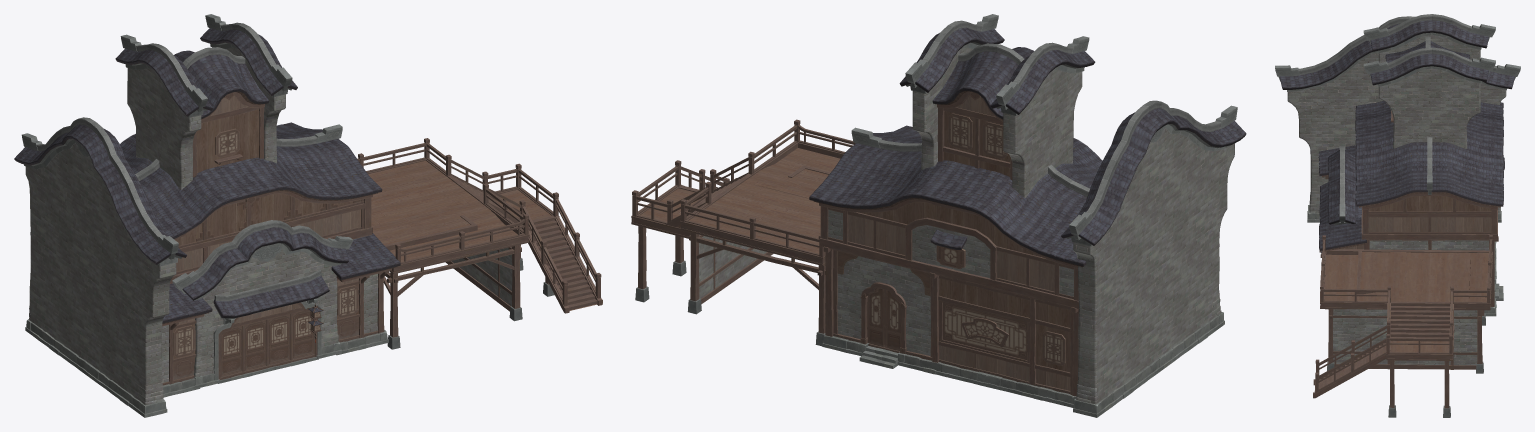
File: Homeworld_Exterior_Cyg_Build_Huipai_01_Lod0.fbx
3 views of the same model, side by side, from view 1: azimuth 30°, elevation 25°; view 2: azimuth 150°, elevation 25°; view 3: azimuth 270°, elevation 25° (orthographic). The views are drawn at different scales.
Visible parts, largest first — view 1: Homeworld_Exterior_Cyg_Build_Huipai_01_Lod0; view 2: Homeworld_Exterior_Cyg_Build_Huipai_01_Lod0; view 3: Homeworld_Exterior_Cyg_Build_Huipai_01_Lod0.
Boxes of the visible parts, bbox=[...] form: Homeworld_Exterior_Cyg_Build_Huipai_01_Lod0: bbox=[14, 14, 602, 417]; Homeworld_Exterior_Cyg_Build_Huipai_01_Lod0: bbox=[631, 14, 1246, 417]; Homeworld_Exterior_Cyg_Build_Huipai_01_Lod0: bbox=[1275, 14, 1520, 417].
Size of what is drawn, in the model's own units: 26.25 by 16.91 by 14.64.
